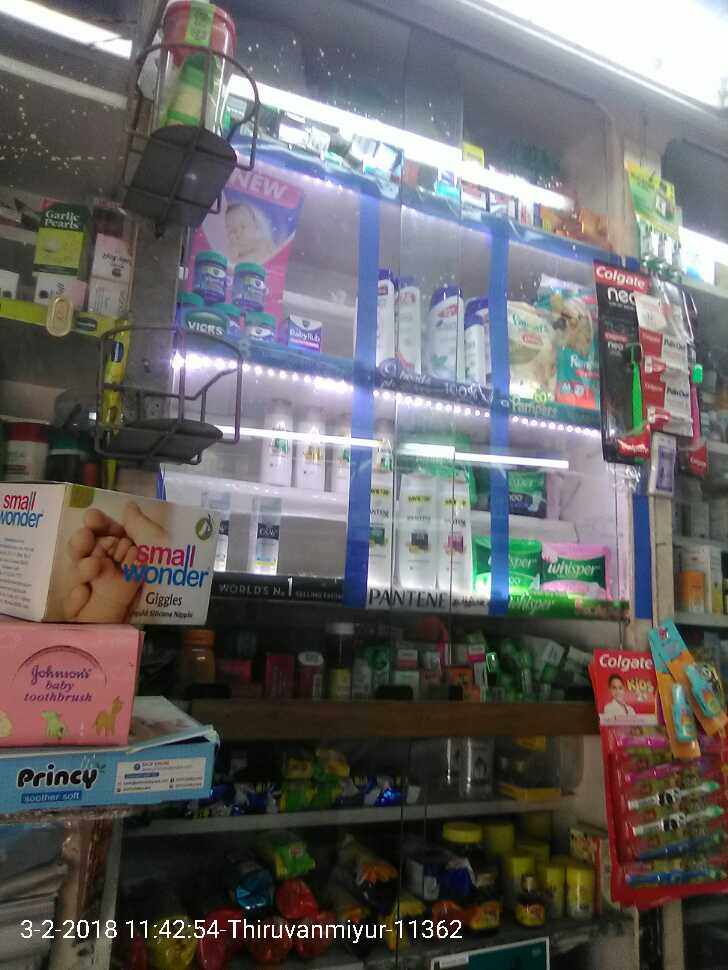vicks: (177, 247, 320, 354)
